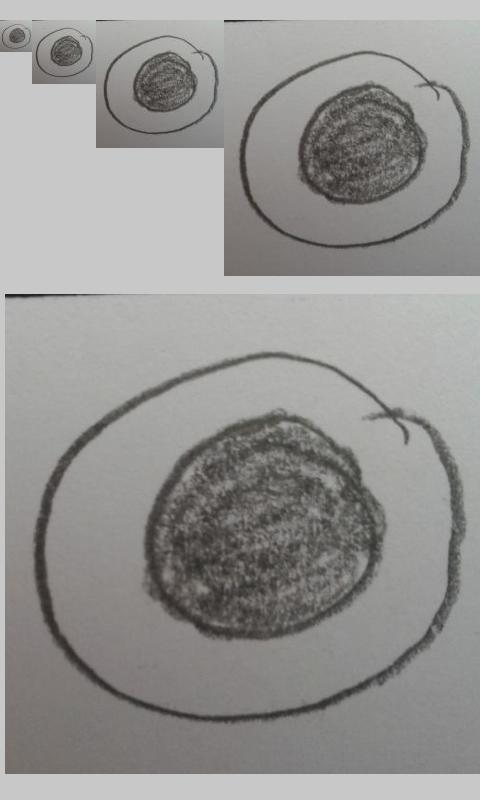radio_button: (32, 348, 468, 726), (238, 49, 470, 249), (104, 35, 219, 135), (35, 27, 94, 78), (1, 23, 32, 50)
